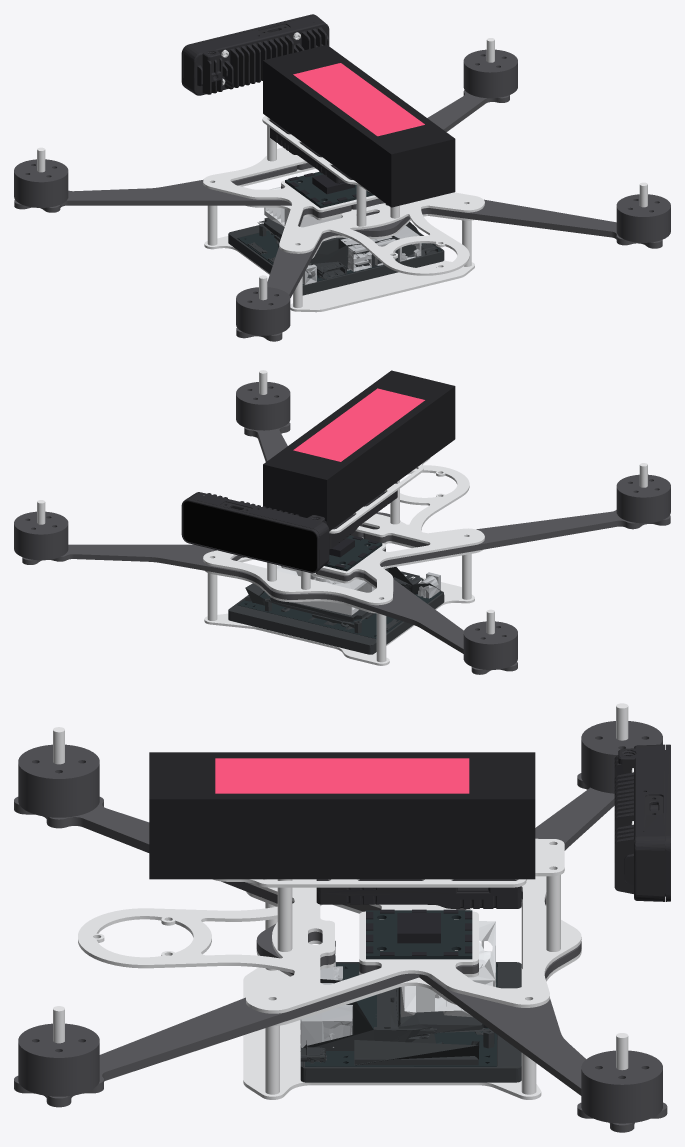
Rendered from navless-uav.glb.
3 views of the same model, one above another, from view 1: azimuth 30°, elevation 25°; view 2: azimuth 150°, elevation 25°; view 3: azimuth 270°, elevation 25° (orthographic). The views are drawn at different scales.
Parts seen in each view (by area): view 1: ovonic-4s-5000mah-130c-lipo-1__battery, gps-loop-upper-plate-1-5-mm-1__plate, oak-d2-camera-1__oak-body, jetson-orin-nano-devkit-simplified-1__jetson, front-arm-right-1__arm, ovonic-4s-5000mah-130c-lipo-1__battery-label, rear-arm-left-1__arm, jetson-plate-bottom-1-5-mm-1__plate, rear-arm-right-1__arm, x2807-1500kv-motor-front-left-1__motor-bell, x2807-1500kv-motor-rear-right-1__motor-bell, x2807-1500kv-motor-front-right-1__motor-bell (+11 smaller); view 2: ovonic-4s-5000mah-130c-lipo-1__battery, gps-loop-upper-plate-1-5-mm-1__plate, oak-d2-camera-1__glass, jetson-orin-nano-devkit-simplified-1__jetson, ovonic-4s-5000mah-130c-lipo-1__battery-label, rear-arm-right-1__arm, front-arm-right-1__arm, front-arm-left-1__arm, oak-d2-camera-1__oak-body, x2807-1500kv-motor-front-left-1__motor-bell, x2807-1500kv-motor-rear-right-1__motor-bell, x2807-1500kv-motor-rear-left-1__motor-bell (+11 smaller); view 3: ovonic-4s-5000mah-130c-lipo-1__battery, gps-loop-upper-plate-1-5-mm-1__plate, jetson-orin-nano-devkit-simplified-1__jetson, ovonic-4s-5000mah-130c-lipo-1__battery-label, oak-d2-camera-1__oak-body, rear-arm-left-1__arm, front-arm-left-1__arm, x2807-1500kv-motor-front-left-1__motor-bell, x2807-1500kv-motor-rear-left-1__motor-bell, x2807-1500kv-motor-rear-right-1__motor-bell, jetson-plate-bottom-1-5-mm-1__plate, pixhawk-6c-underside-1__pixhawk (+11 smaller).
Boxes of the visible parts, x1,y1,x2,y2 form: ovonic-4s-5000mah-130c-lipo-1__battery: (263, 45, 455, 207); gps-loop-upper-plate-1-5-mm-1__plate: (203, 147, 484, 275); oak-d2-camera-1__oak-body: (181, 14, 329, 95); jetson-orin-nano-devkit-simplified-1__jetson: (228, 204, 444, 295); front-arm-right-1__arm: (14, 165, 297, 212); ovonic-4s-5000mah-130c-lipo-1__battery-label: (293, 63, 424, 136); rear-arm-left-1__arm: (351, 198, 662, 248); jetson-plate-bottom-1-5-mm-1__plate: (204, 236, 474, 312); rear-arm-right-1__arm: (236, 205, 387, 341); x2807-1500kv-motor-front-left-1__motor-bell: (463, 49, 517, 98); x2807-1500kv-motor-rear-right-1__motor-bell: (236, 287, 290, 335); x2807-1500kv-motor-front-right-1__motor-bell: (14, 159, 68, 207); ovonic-4s-5000mah-130c-lipo-1__battery: (263, 370, 455, 531); gps-loop-upper-plate-1-5-mm-1__plate: (203, 465, 484, 605); oak-d2-camera-1__glass: (183, 501, 316, 571); jetson-orin-nano-devkit-simplified-1__jetson: (228, 567, 444, 654); ovonic-4s-5000mah-130c-lipo-1__battery-label: (293, 388, 424, 461); rear-arm-right-1__arm: (363, 510, 670, 566); front-arm-right-1__arm: (279, 569, 517, 674); front-arm-left-1__arm: (22, 544, 279, 598); oak-d2-camera-1__oak-body: (181, 492, 329, 573); x2807-1500kv-motor-front-left-1__motor-bell: (14, 511, 68, 560); x2807-1500kv-motor-rear-right-1__motor-bell: (616, 474, 670, 523); x2807-1500kv-motor-rear-left-1__motor-bell: (236, 382, 290, 430); ovonic-4s-5000mah-130c-lipo-1__battery: (149, 752, 535, 879); gps-loop-upper-plate-1-5-mm-1__plate: (78, 876, 581, 1013); jetson-orin-nano-devkit-simplified-1__jetson: (300, 941, 521, 1082); ovonic-4s-5000mah-130c-lipo-1__battery-label: (215, 758, 469, 793); oak-d2-camera-1__oak-body: (614, 744, 670, 901); rear-arm-left-1__arm: (14, 940, 419, 1107); front-arm-left-1__arm: (419, 942, 667, 1132); x2807-1500kv-motor-front-left-1__motor-bell: (581, 1050, 662, 1123); x2807-1500kv-motor-rear-left-1__motor-bell: (18, 1023, 99, 1096); x2807-1500kv-motor-rear-right-1__motor-bell: (18, 744, 99, 817); jetson-plate-bottom-1-5-mm-1__plate: (243, 967, 541, 1099); pixhawk-6c-underside-1__pixhawk: (316, 879, 521, 908).
Bounding box in the file's own units: 0.3562 × 0.1161 × 0.269.
